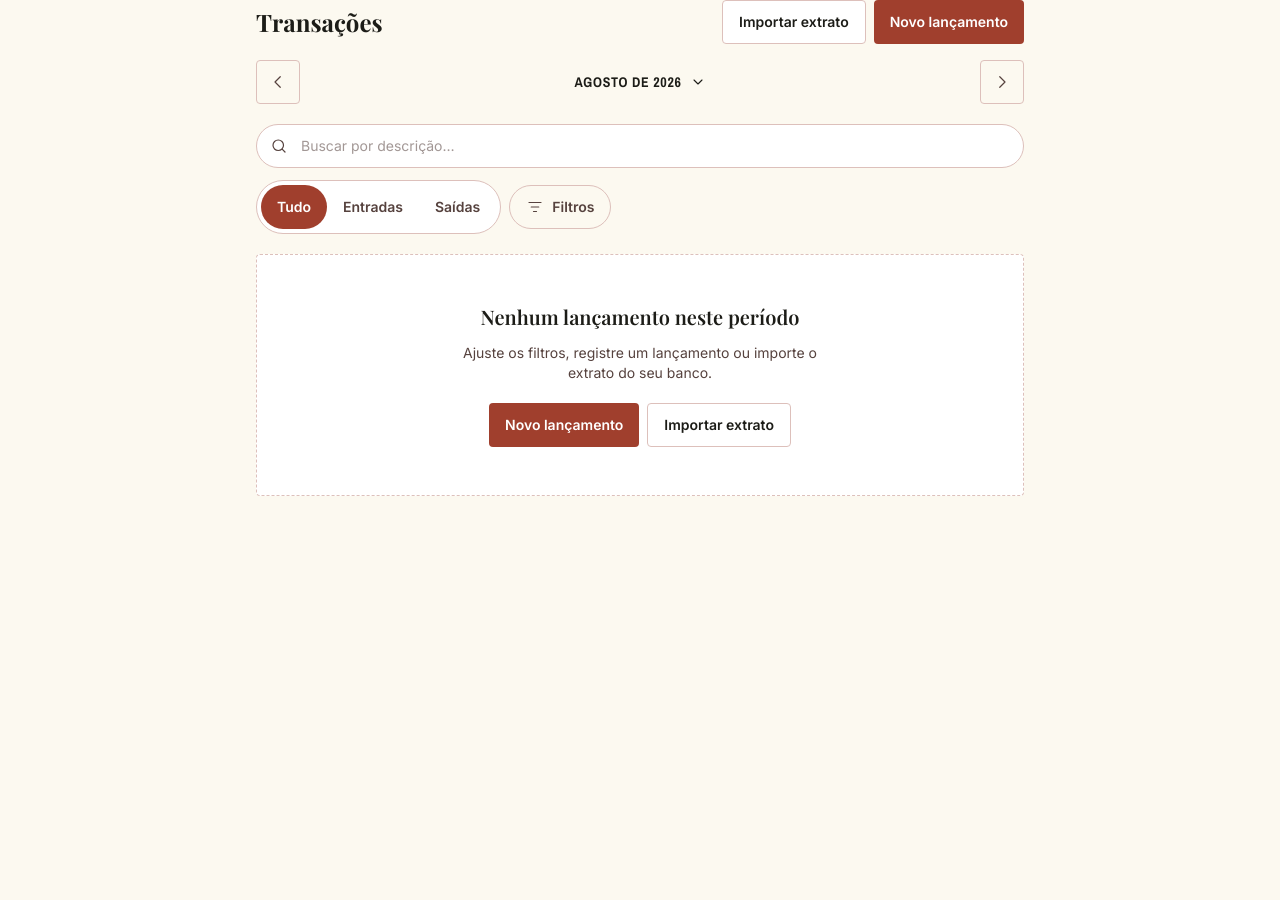
Scenario: validação do formulário (FR-003) › exige descrição
expect the heading "Transações" is shown: met, box [256, 6, 383, 38]
Click the button "Novo lançamento" in the row of "Transações": [949, 22] box [874, 0, 1024, 44]
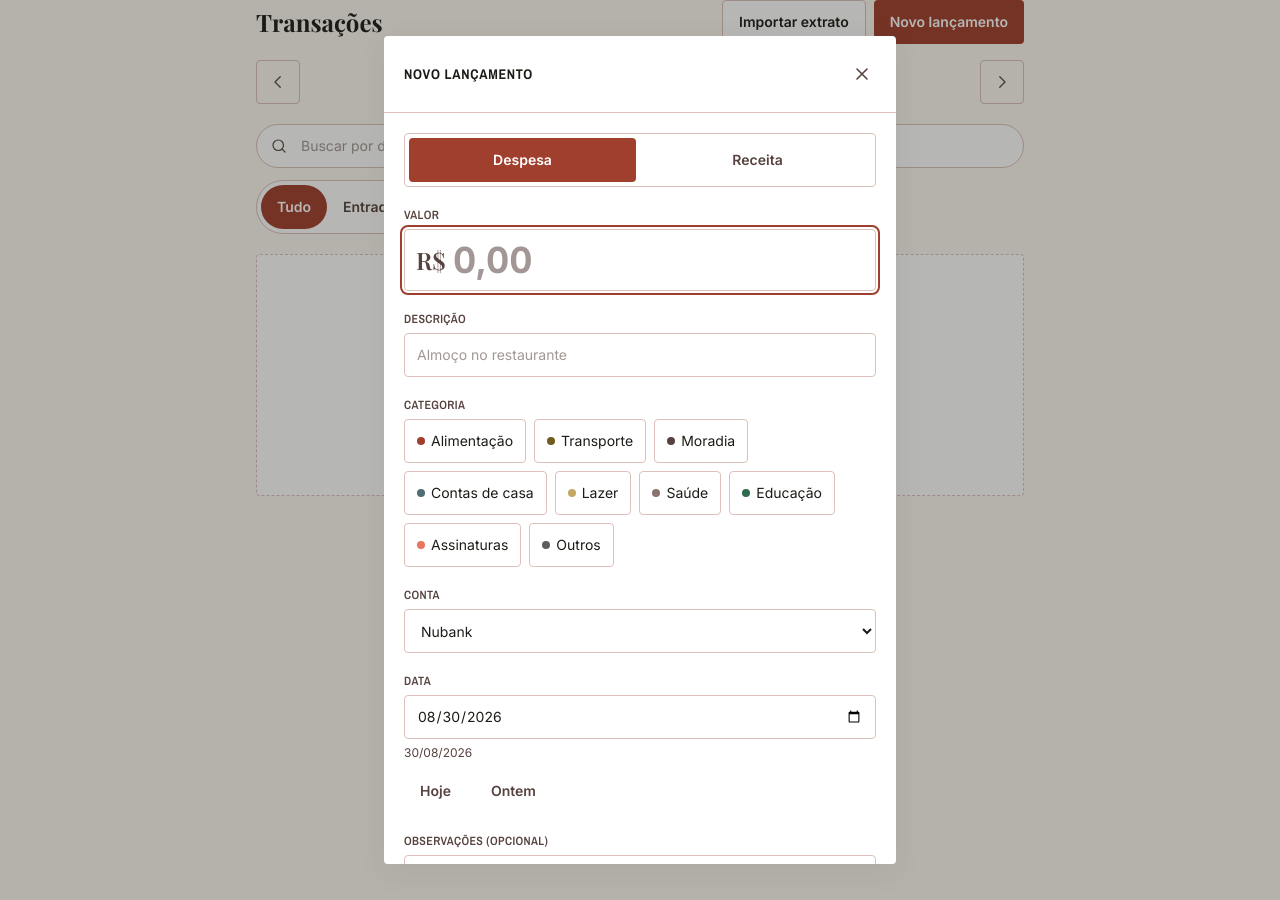
In the field labelled "Valor": [640, 260] box [404, 229, 876, 291], type "42,90"
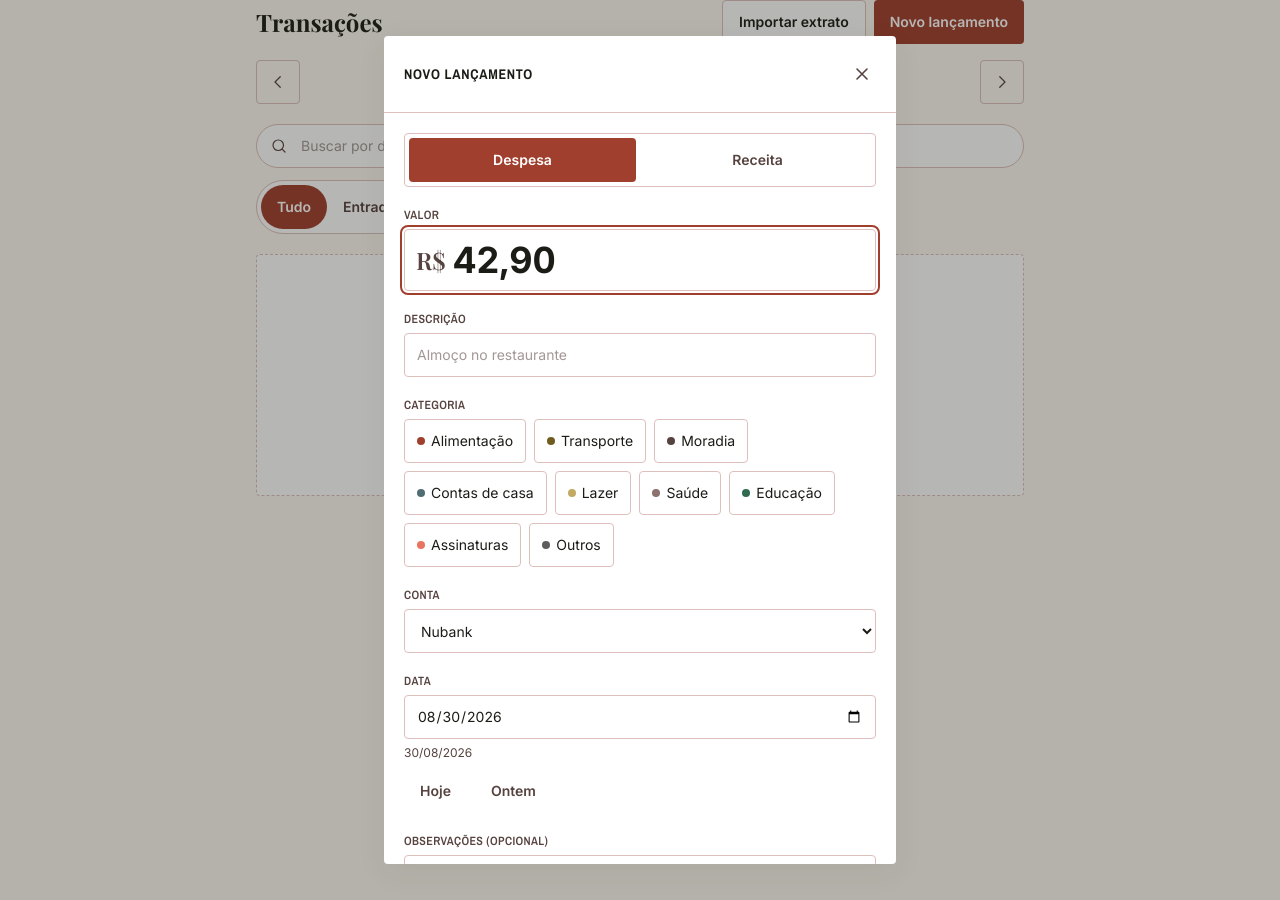
Click the button "Alimentação": [465, 441] box [404, 419, 526, 463]
(page scrolled)
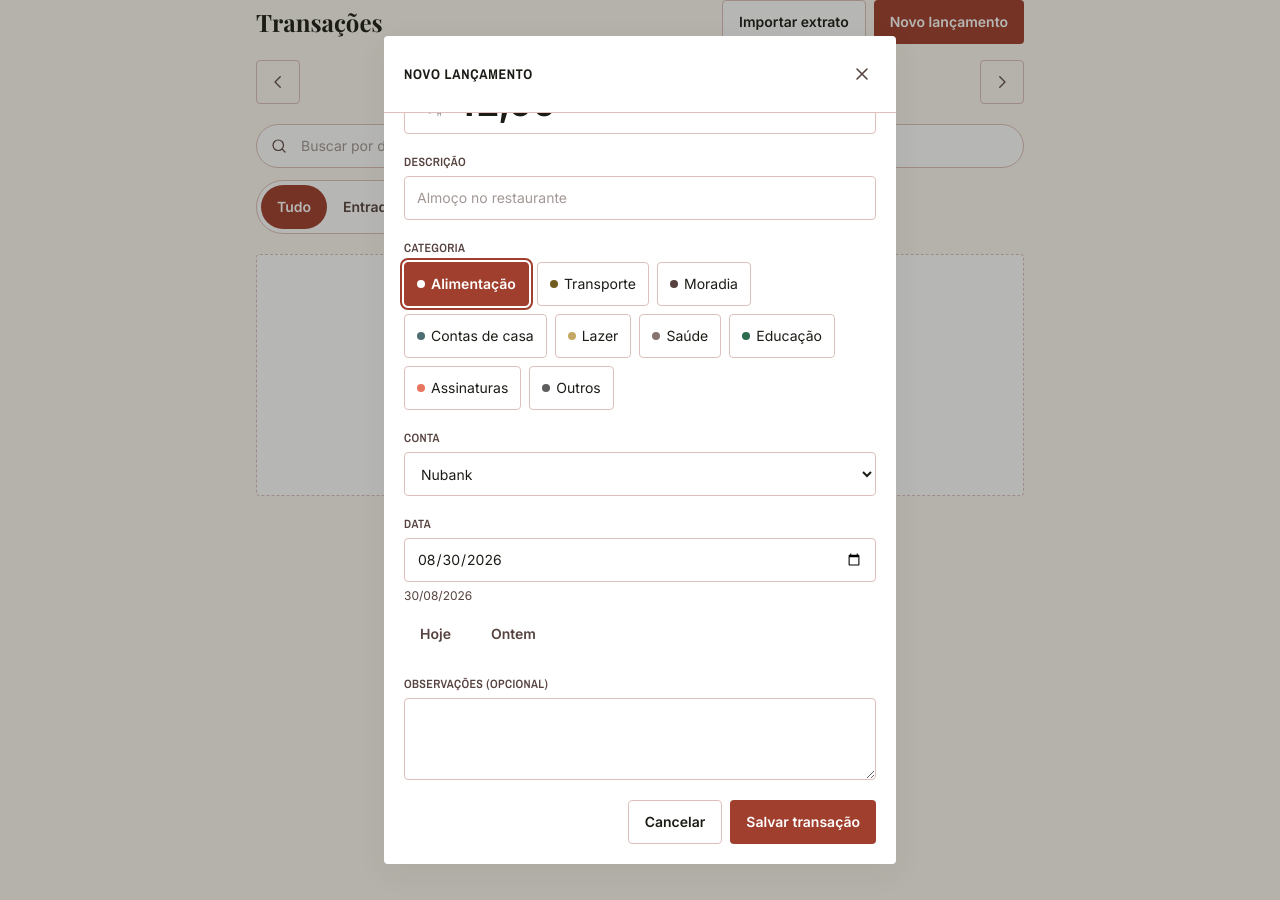
Click the button "Salvar transação": [803, 822] box [730, 800, 876, 844]
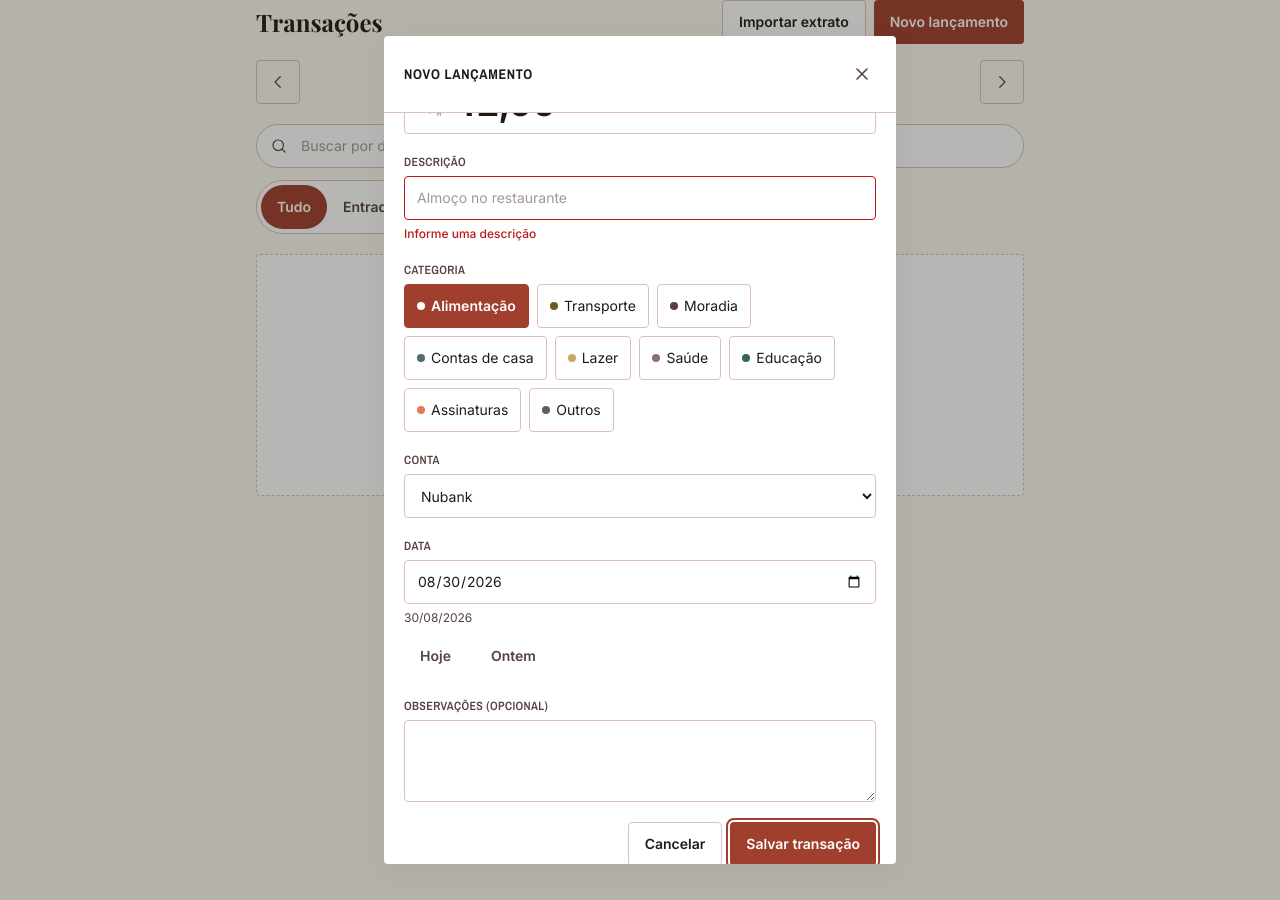
expect the text "Informe uma descrição" is shown: met, box [404, 226, 536, 241]
